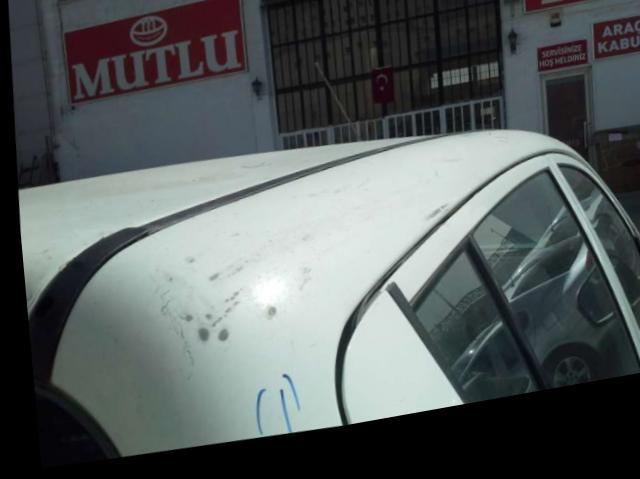rub: (189, 331, 204, 351), (210, 334, 223, 350), (176, 318, 189, 330), (260, 316, 271, 325), (198, 320, 206, 328)
scratch: (149, 290, 197, 390), (201, 264, 245, 292), (203, 307, 236, 335), (417, 216, 449, 239), (217, 294, 237, 310), (437, 172, 459, 178)
